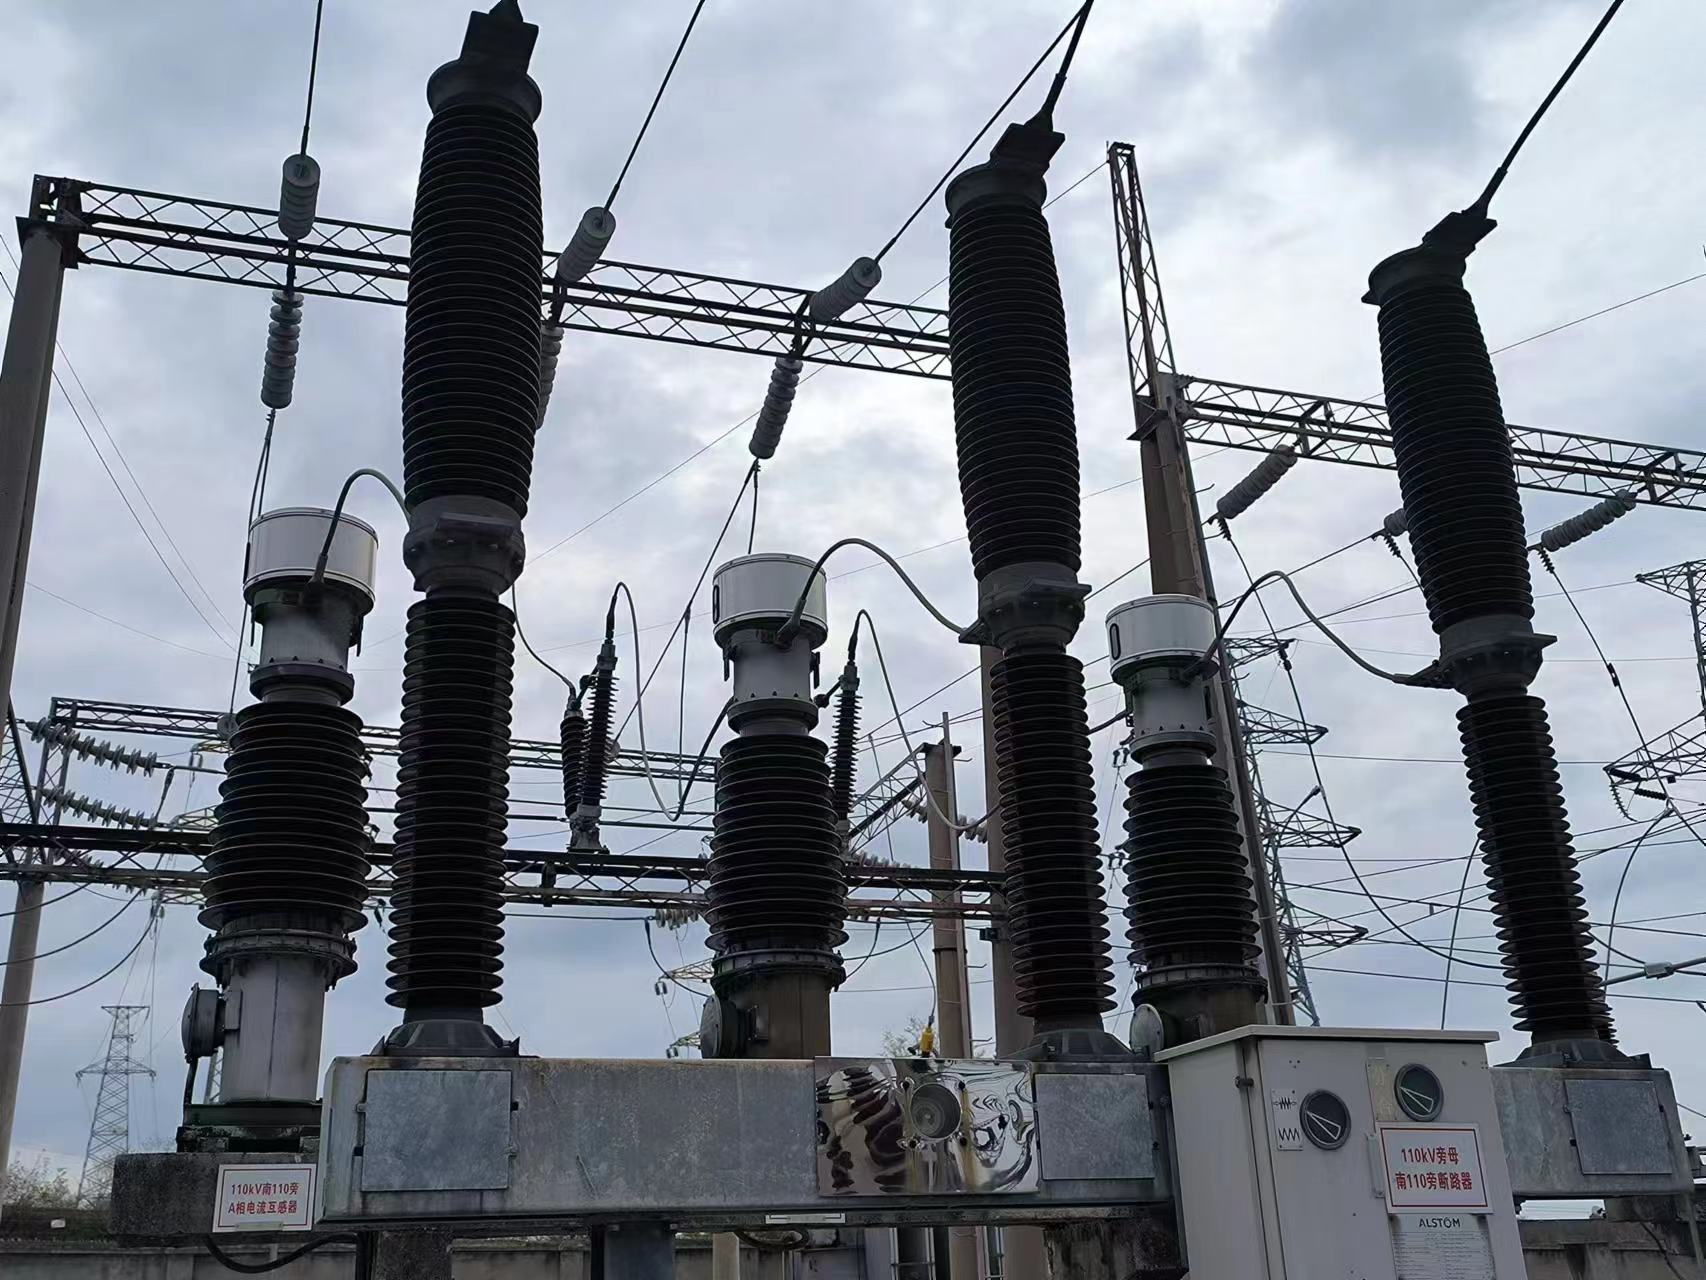Circuit-breaker: (1360, 210, 1625, 1051), (384, 3, 551, 1019), (940, 120, 1119, 1023)
Current transformer: (194, 497, 380, 1041), (692, 550, 850, 1058), (1104, 593, 1264, 986)
